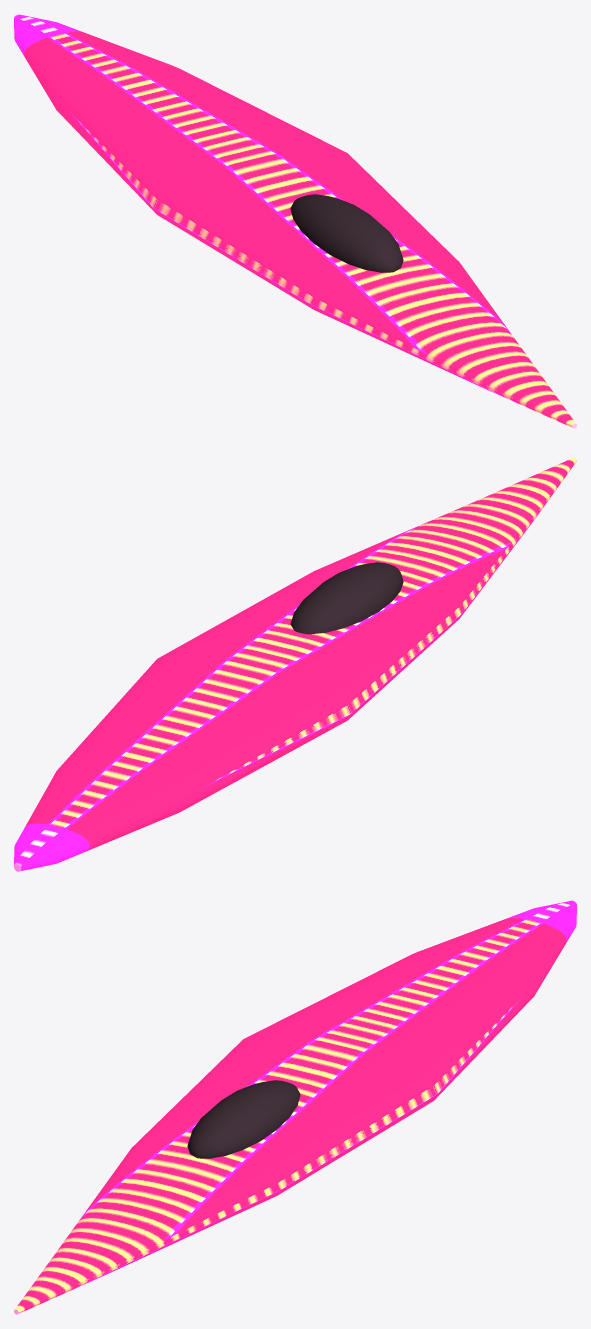
The model's file is HULL.glb.
The picture shows the model from 3 angles, top to bottom: view 1: azimuth 30°, elevation 25°; view 2: azimuth 150°, elevation 25°; view 3: azimuth 330°, elevation 25°; orthographic projection.
Visible parts, largest first — view 1: HULL_03; view 2: HULL_03; view 3: HULL_03.
Boxes of the visible parts, x1,y1,x2,y2 form: HULL_03: (14, 14, 576, 428); HULL_03: (14, 457, 576, 871); HULL_03: (14, 900, 576, 1314).
Bounding box in the file's own units: 1.7 × 0.5282 × 8.3.
2 materials, 1 textured.
